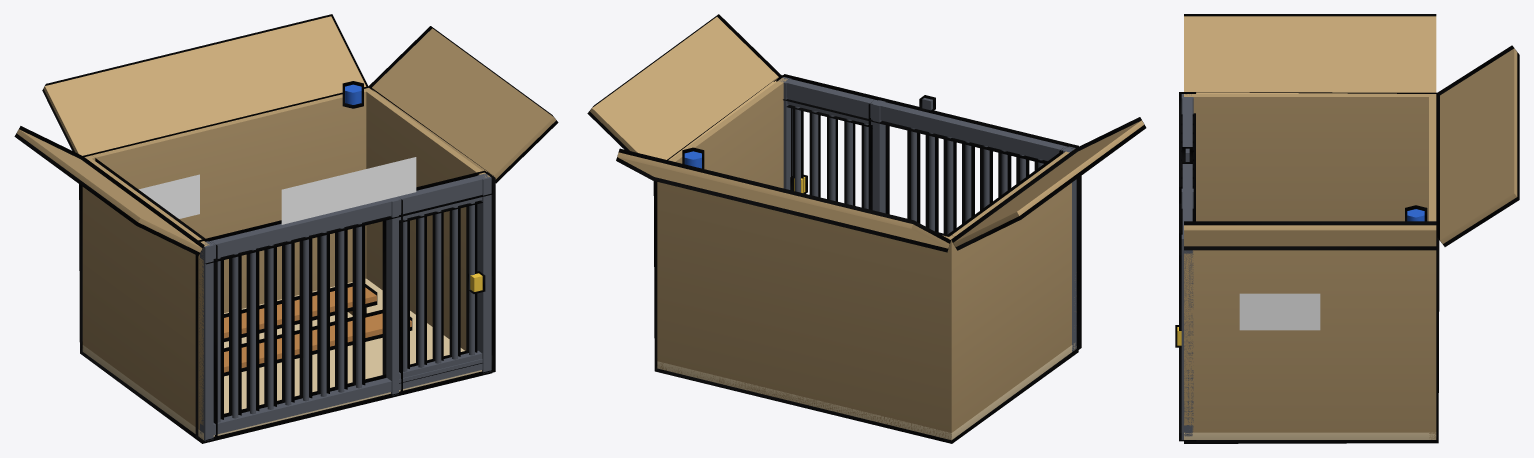
File: BR_Zelle.glb
The picture shows the model from 3 angles, left to right: view 1: azimuth 30°, elevation 25°; view 2: azimuth 150°, elevation 25°; view 3: azimuth 270°, elevation 25°; orthographic projection. The views are drawn at different scales.
Visible parts, largest first — view 1: BR_Zelle_Mesh, BR_Zelle_Outline, Tuer, Tuer_Outline; view 2: BR_Zelle_Mesh, BR_Zelle_Outline, Tuer, Tuer_Outline; view 3: BR_Zelle_Mesh, BR_Zelle_Outline.
Part boxes in pixels (box(x1,y1,x2,y2)): BR_Zelle_Mesh: box(16, 16, 556, 441); BR_Zelle_Outline: box(14, 14, 558, 443); Tuer: box(399, 193, 482, 378); Tuer_Outline: box(399, 200, 485, 383); BR_Zelle_Mesh: box(590, 17, 1143, 440); BR_Zelle_Outline: box(587, 14, 1146, 443); Tuer: box(787, 97, 872, 208); Tuer_Outline: box(786, 105, 872, 207); BR_Zelle_Mesh: box(1181, 16, 1517, 439); BR_Zelle_Outline: box(1179, 14, 1519, 443).
Bounding box in the file's own units: 5.02 × 2.77 × 3.41.
